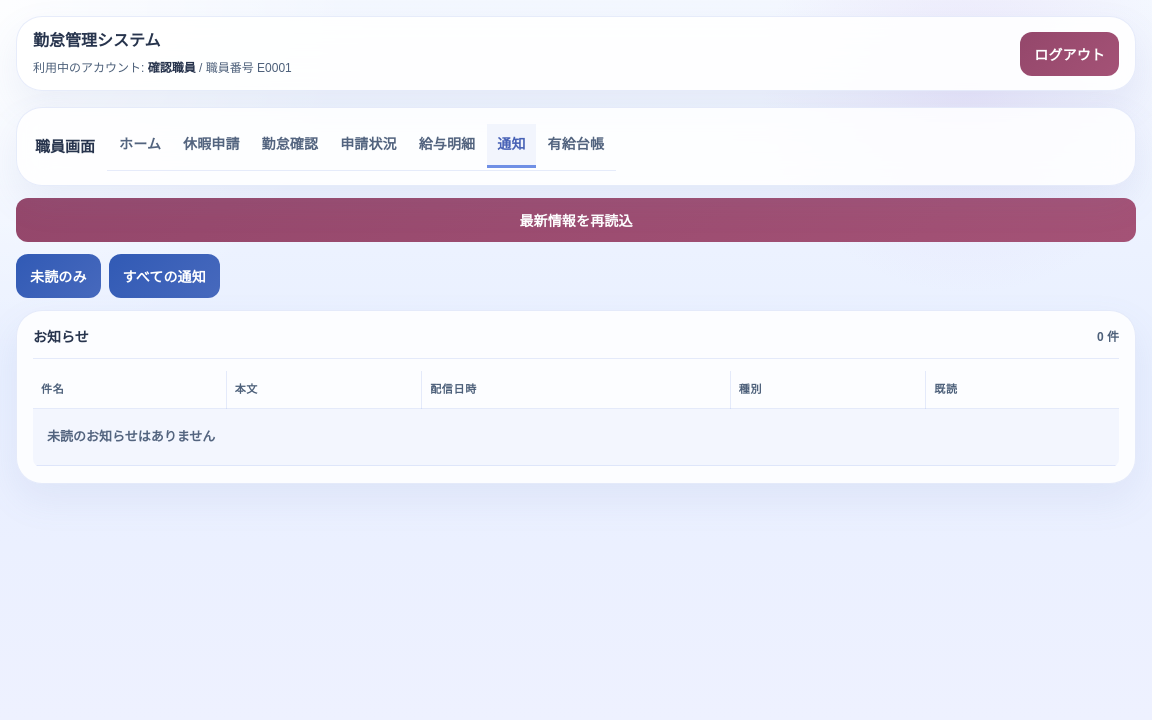
Scenario: EmployeePortalSection › ホームを当日の確認に絞り、給与メニューから支給日未登録のPC・モバイル一覧を開ける
Click the button "ホーム" at (140, 146), box [109,124,171,168]
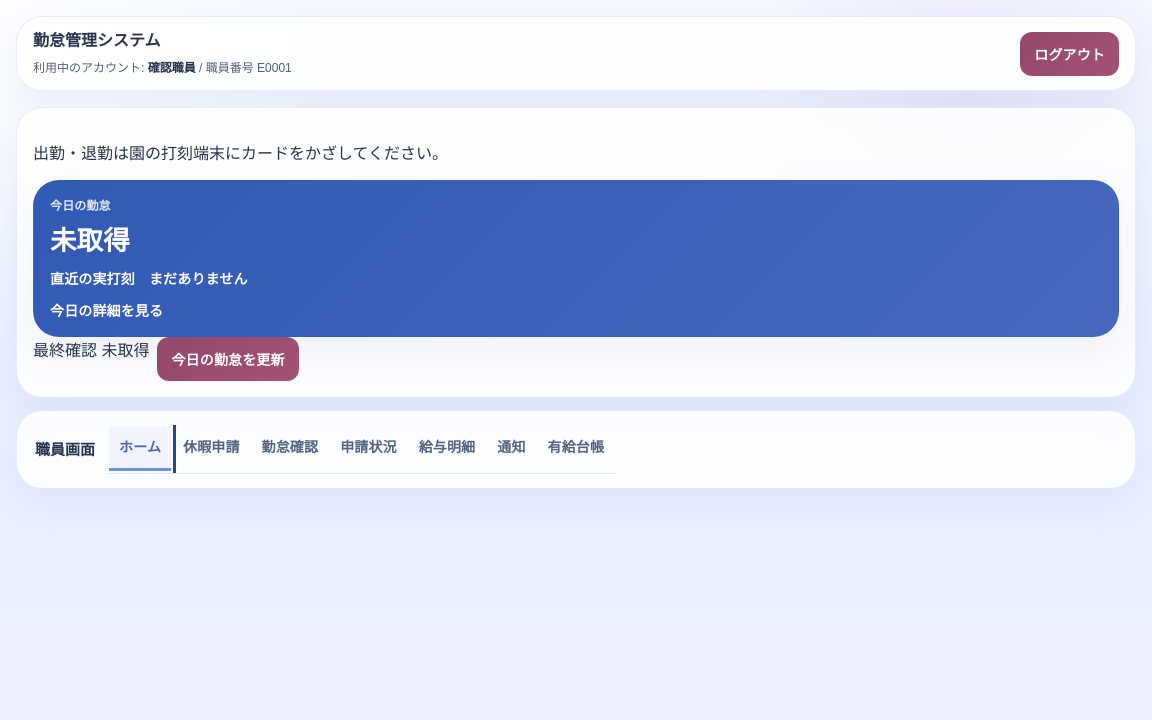
Click the button "給与明細" at (447, 449), box [409,427,485,471]
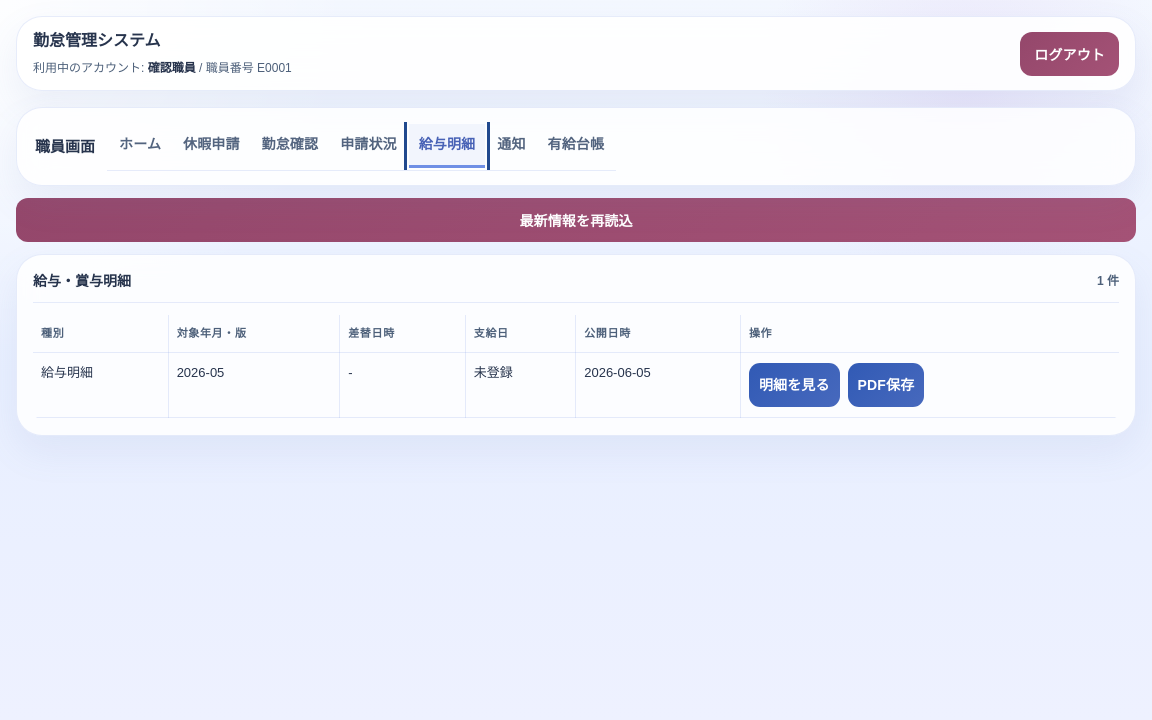
Expected: the cell "未登録" is shown, [465,353,576,418]
Expected: the text "2026-06-05" is shown 2 times
